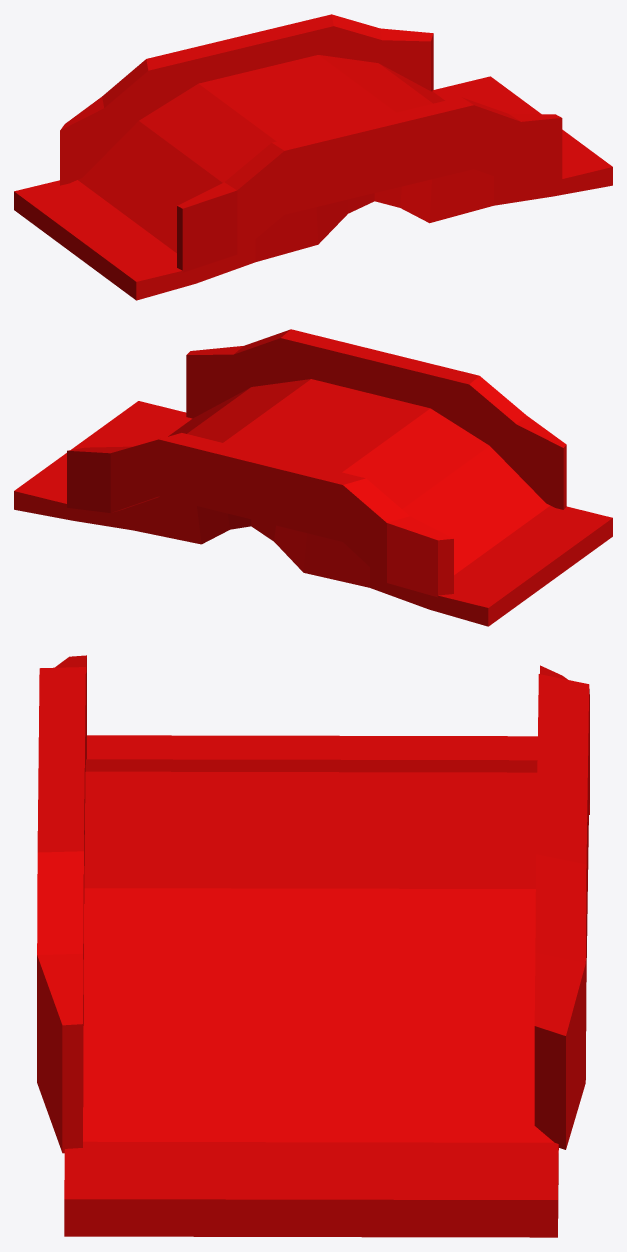
The model's file is Road_Red.fbx.
The picture shows the model from 3 angles, top to bottom: view 1: azimuth 30°, elevation 25°; view 2: azimuth 150°, elevation 25°; view 3: azimuth 270°, elevation 25°; orthographic projection. The views are drawn at different scales.
Visible parts, largest first — view 1: Bridge; view 2: Bridge; view 3: Bridge.
Part boxes in pixels (<box>): Bridge: <box>14,14,612,300</box>; Bridge: <box>14,329,612,626</box>; Bridge: <box>37,655,589,1237</box>.
Bounding box in the file's own units: 126 × 30.58 × 63.36.
